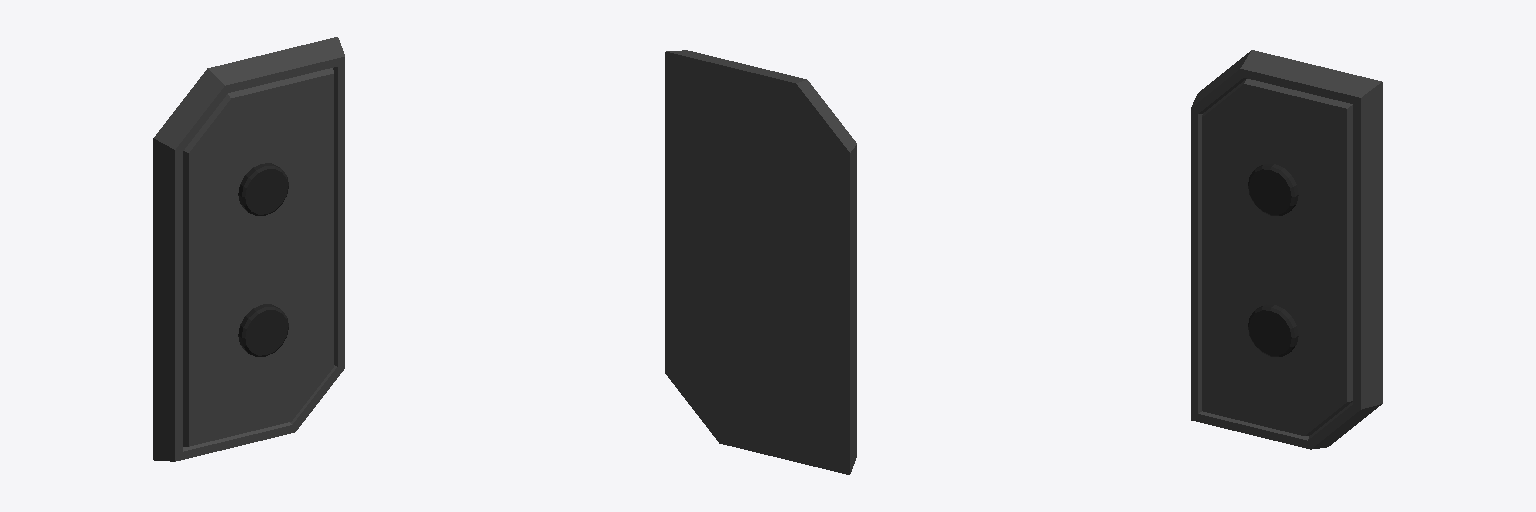
Rendered from Details_Basic_2.obj.
The picture shows the model from 3 angles: view 1: azimuth 30°, elevation 25°; view 2: azimuth 150°, elevation 25°; view 3: azimuth 330°, elevation 25°; orthographic projection.
Visible parts, largest first — view 1: Details_Basic_2_Cube.058; view 2: Details_Basic_2_Cube.058; view 3: Details_Basic_2_Cube.058.
Boxes of the visible parts, x1=… form: Details_Basic_2_Cube.058: x1=153, y1=37, x2=344, y2=461; Details_Basic_2_Cube.058: x1=665, y1=50, x2=856, y2=474; Details_Basic_2_Cube.058: x1=1191, y1=50, x2=1382, y2=449.
Bounding box in the file's own units: 0.2699 × 0.5292 × 0.0517.